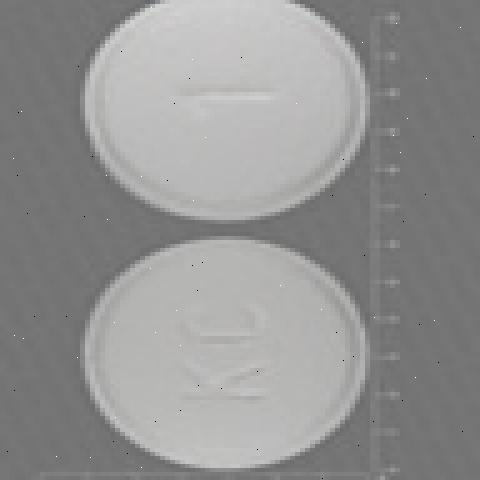Pill: (67, 214, 399, 480), (62, 2, 382, 228)
